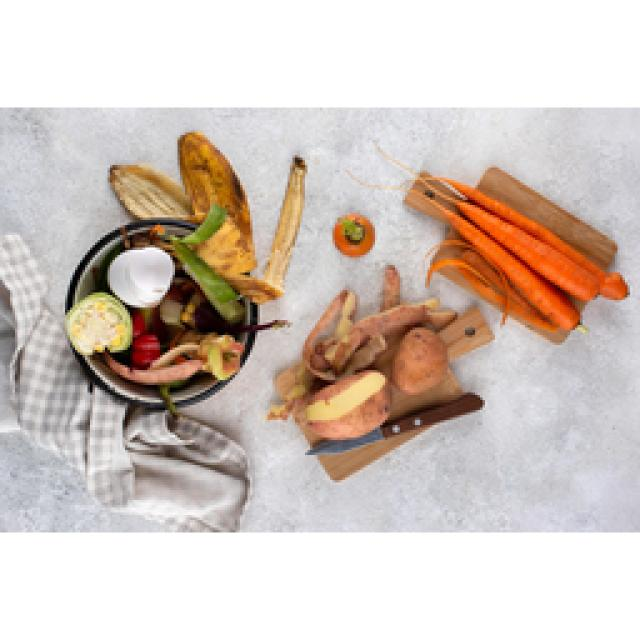food_waste: (65, 132, 305, 410), (268, 265, 478, 438), (405, 175, 625, 330)
